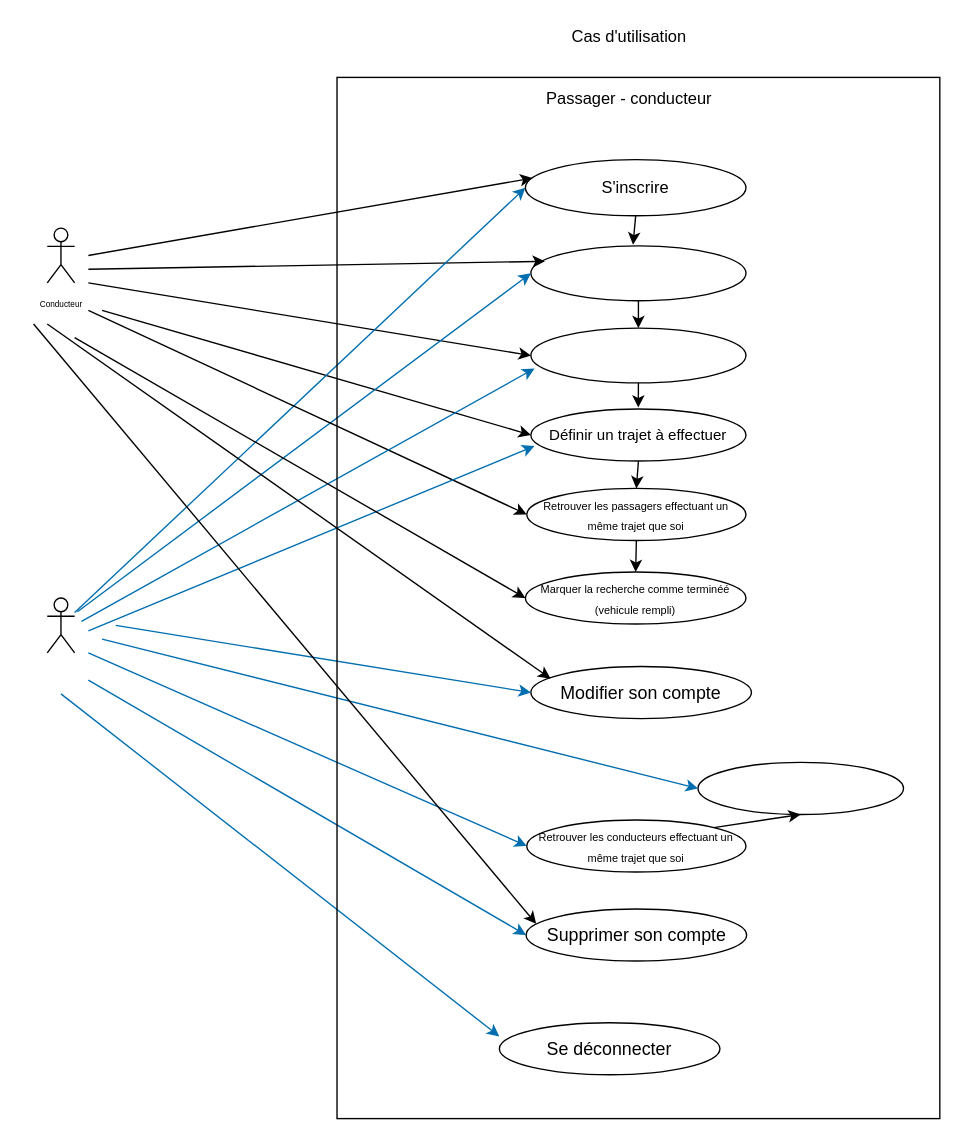
Some shapes in this 964 by 1143 pixel diagram are drawn without their labels. Each missing label, with the centre of its shape:
"Activer la géolocalisation" goes at (638,355).
"Marquer la recherche comme terminée (vehicule trouvé)" goes at (800,787).
"Passager" goes at (60,625).
"Se connecter" goes at (638,273).
